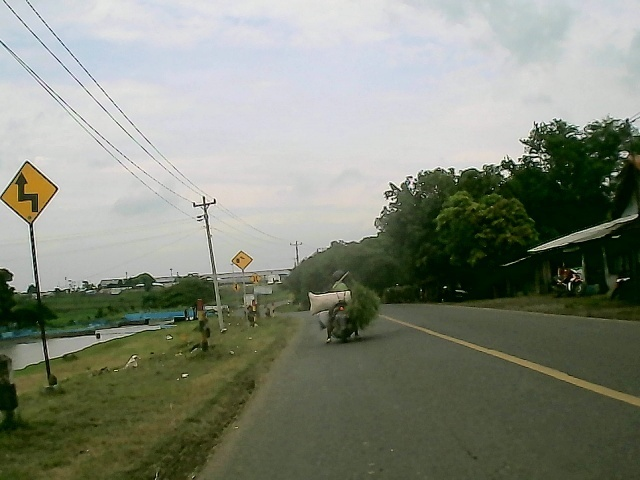Peringatan tepi air: (231, 248, 253, 271)
Tikungan garda pertama kiri: (1, 159, 64, 229)
